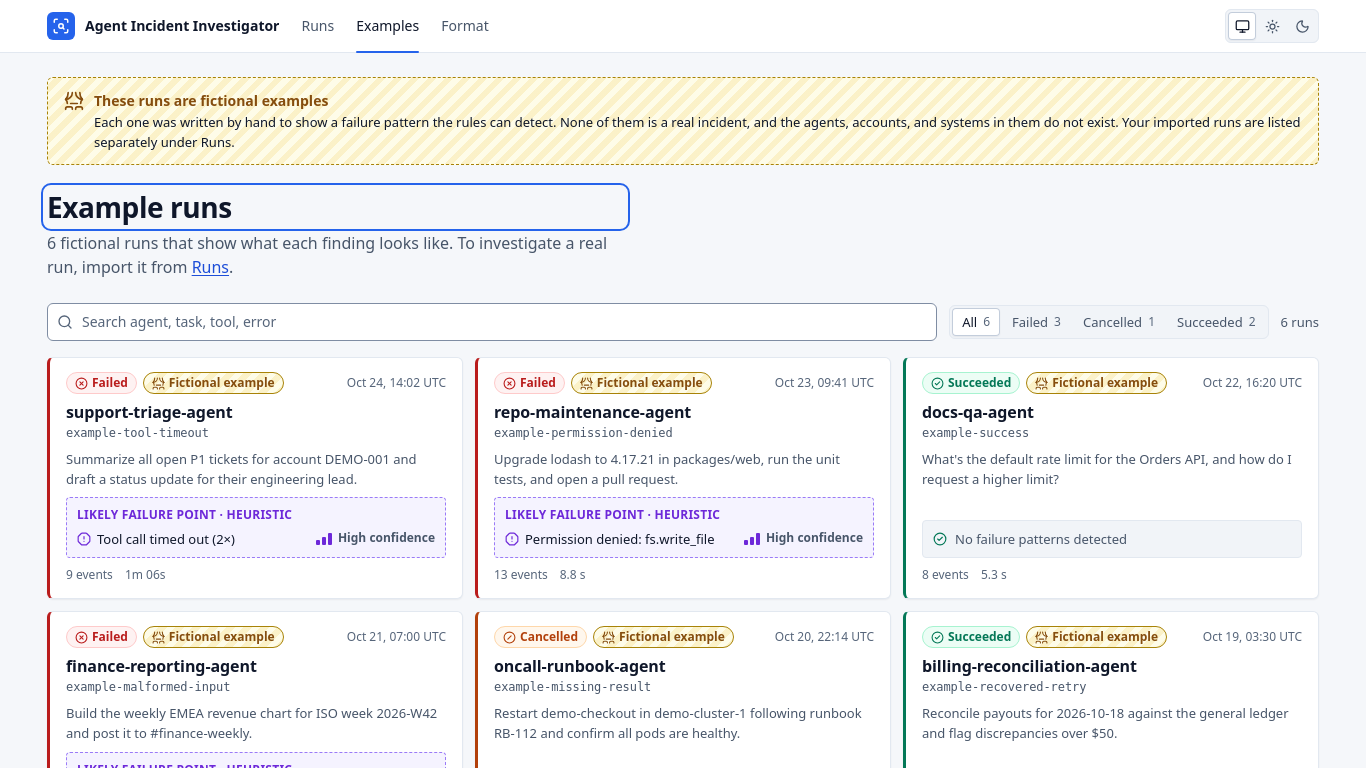
Test: examples › labels every example as fictional and filters by status and search
Expected: the text "These runs are fictional examples" is shown, [94,91,328,110]
Expected: the text "Fictional example" is shown 6 times, [143,372,284,394]; [571,372,712,394]; [1026,372,1167,394]; [143,626,284,648]; [593,626,734,648]; [1026,626,1167,648]
Click the 4th radio button labelled "Failed 3": {"x": 1036, "y": 322} [1012,313,1061,331]
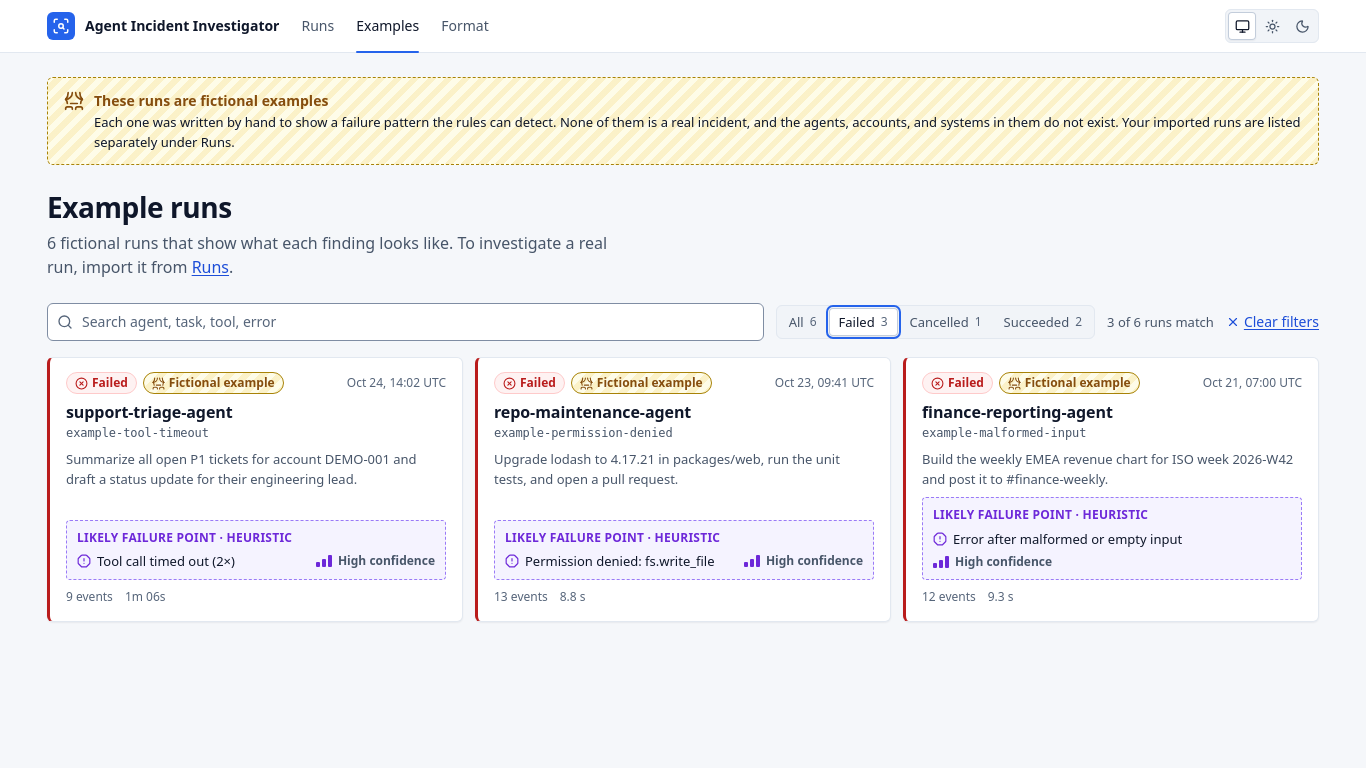
In the search field named "Search example runs": {"x": 405, "y": 322} [47,303,764,341], type "tickets.search"
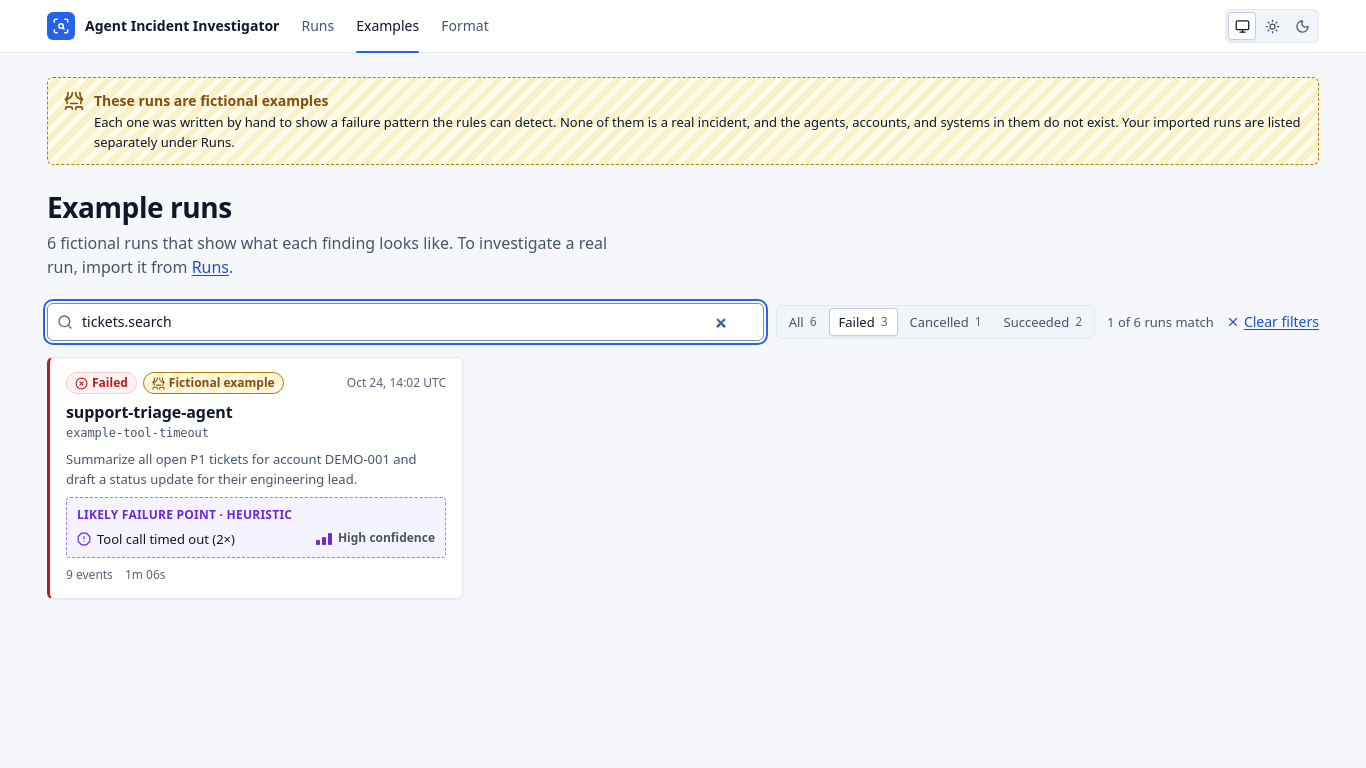
Result: the text "1 of 6 runs match" is shown at [1107,312,1214,332]
